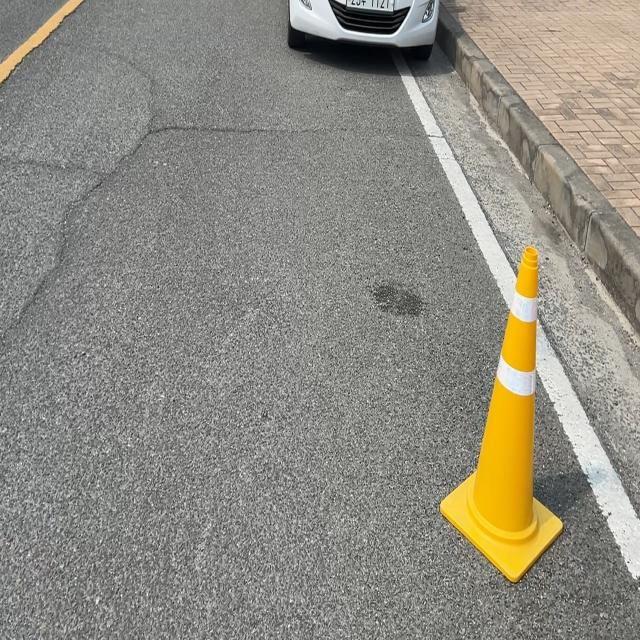y_rub: (441, 246, 564, 582)
